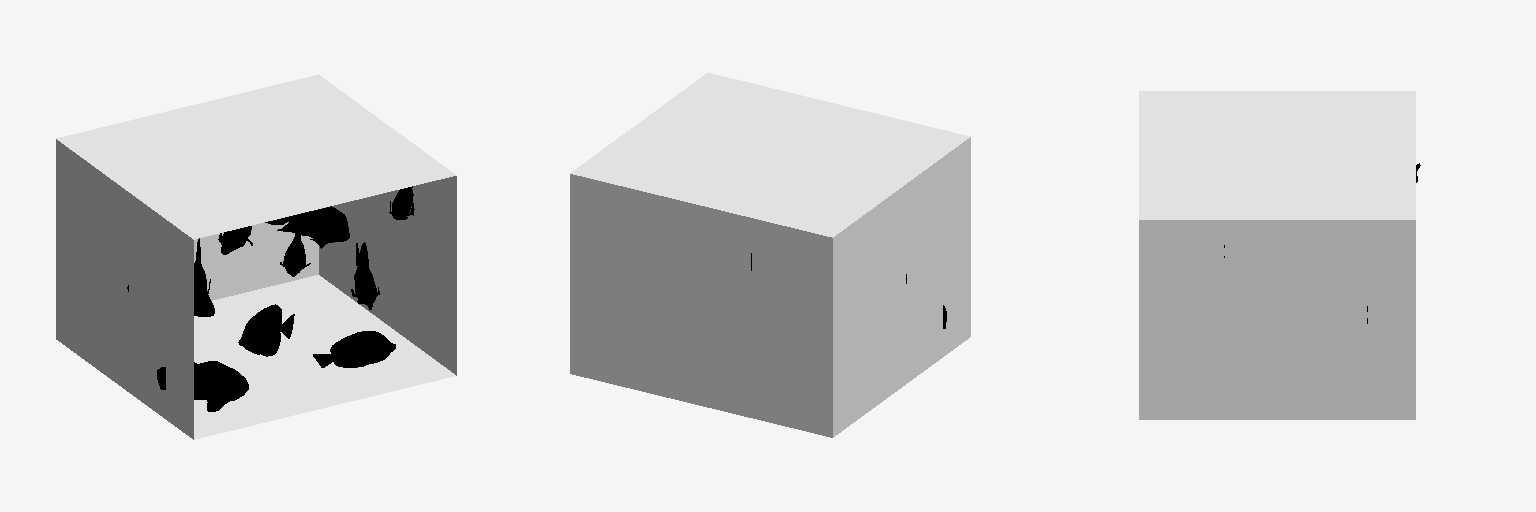
File: FishTank.obj
3 views of the same model, side by side, from view 1: azimuth 30°, elevation 25°; view 2: azimuth 150°, elevation 25°; view 3: azimuth 270°, elevation 25° (orthographic).
Bounding box in the file's own units: 58.05 × 40 × 50.94.